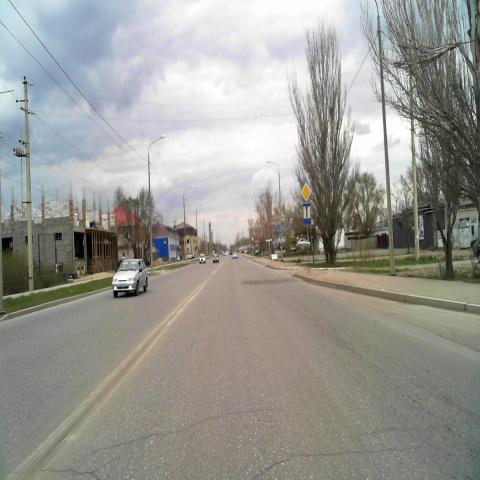7_4: (303, 203, 311, 225)
